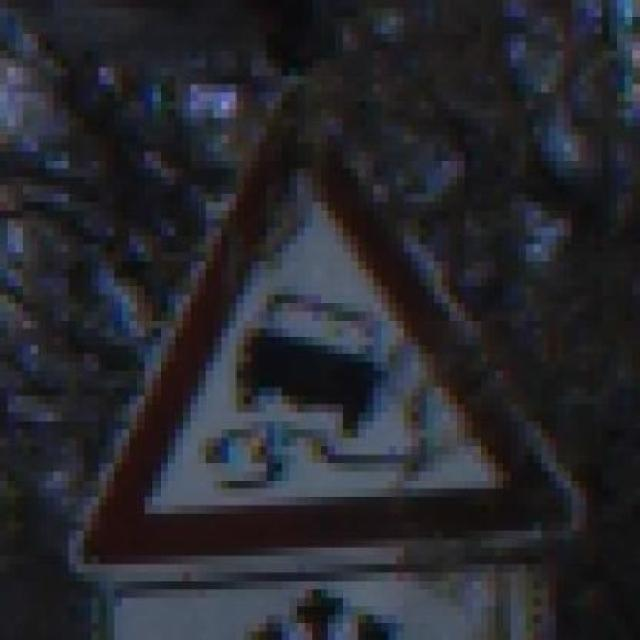Slippery Road Ahead: (45, 76, 602, 590)
